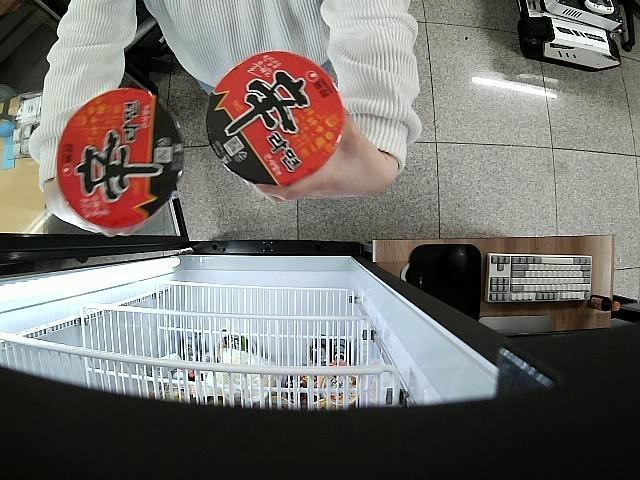01_ShinRamen_L: (205, 51, 346, 188), (56, 88, 186, 228)
